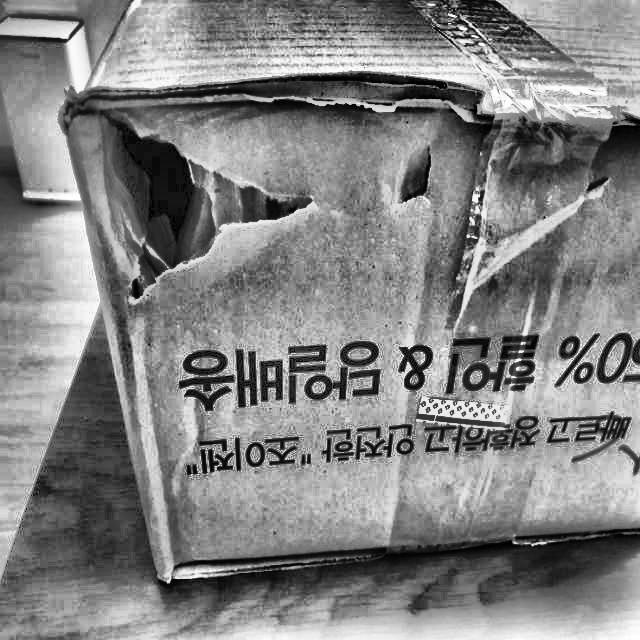box: (52, 0, 639, 599)
hole: (82, 100, 320, 304)
